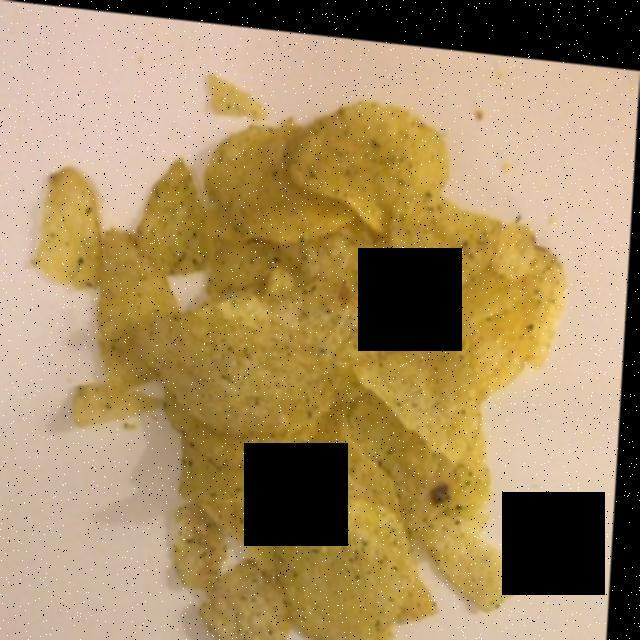crisps: (69, 103, 559, 640)
